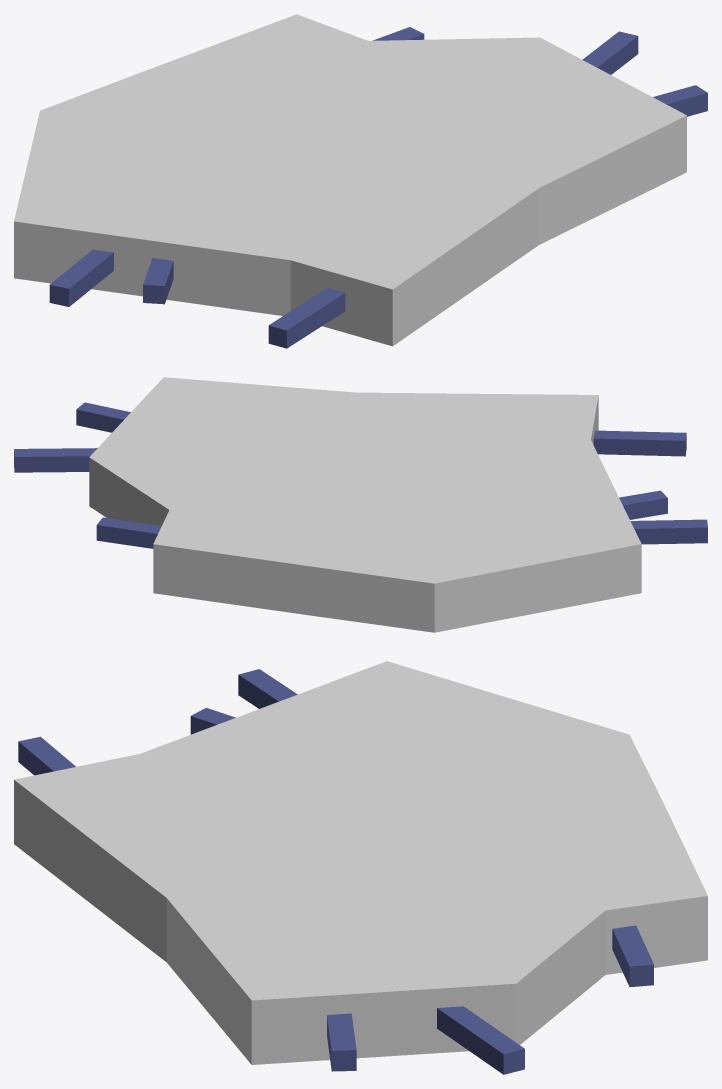
Rendered from ConcreteDebris1.FBX.
3 renders of one model, top to bottom at view 1: azimuth 30°, elevation 25°; view 2: azimuth 150°, elevation 25°; view 3: azimuth 270°, elevation 25°, orthographic. The views are drawn at different scales.
Visible parts, largest first — view 1: ConcreteDebris1; view 2: ConcreteDebris1; view 3: ConcreteDebris1.
Part boxes in pixels (x1,y1,x2,y2): ConcreteDebris1: (14, 14, 707, 348); ConcreteDebris1: (14, 377, 707, 632); ConcreteDebris1: (14, 661, 707, 1074).
Bounding box in the file's own units: 57.54 × 4.49 × 43.8.
